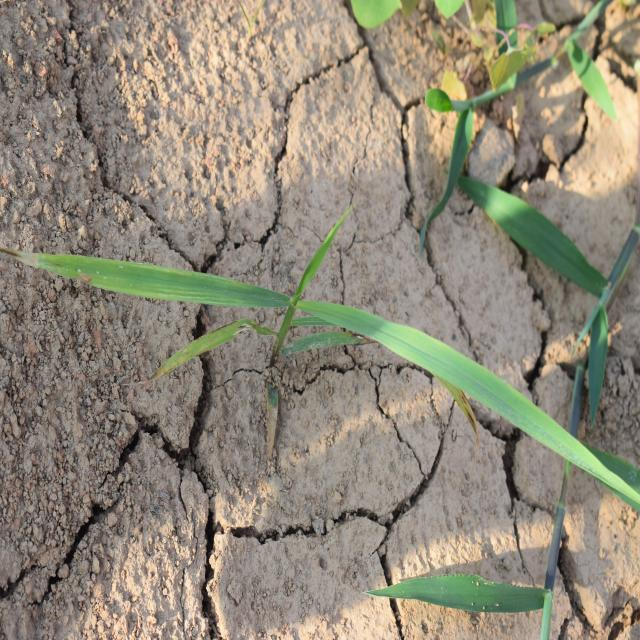green_foxtail: (66, 172, 557, 476)
